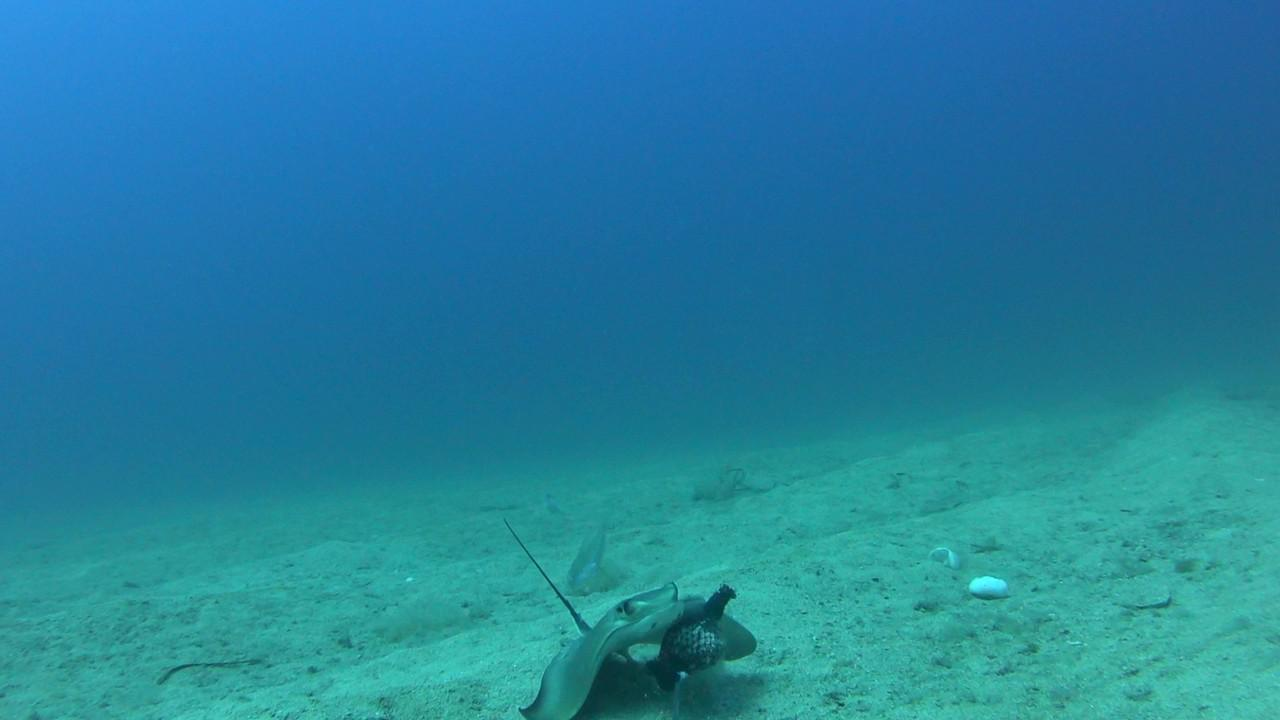myliobatis: (485, 503, 753, 719)
raor: (566, 512, 611, 592)
